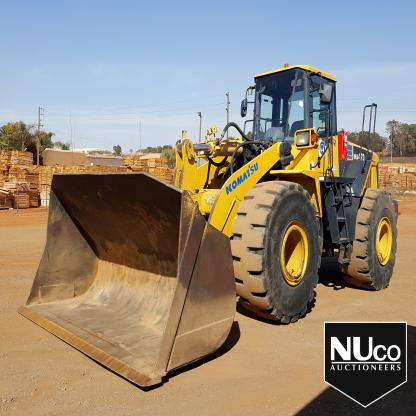bull_dozer/loader/grader: (19, 63, 408, 387)
